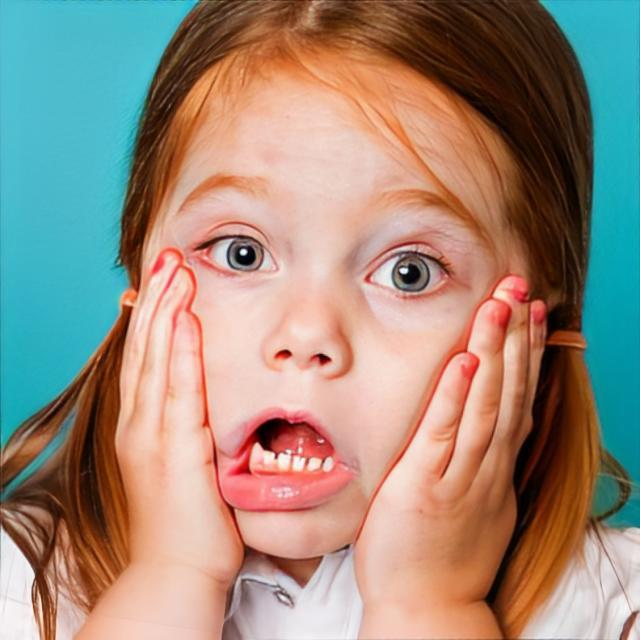fear: (138, 44, 542, 562)
